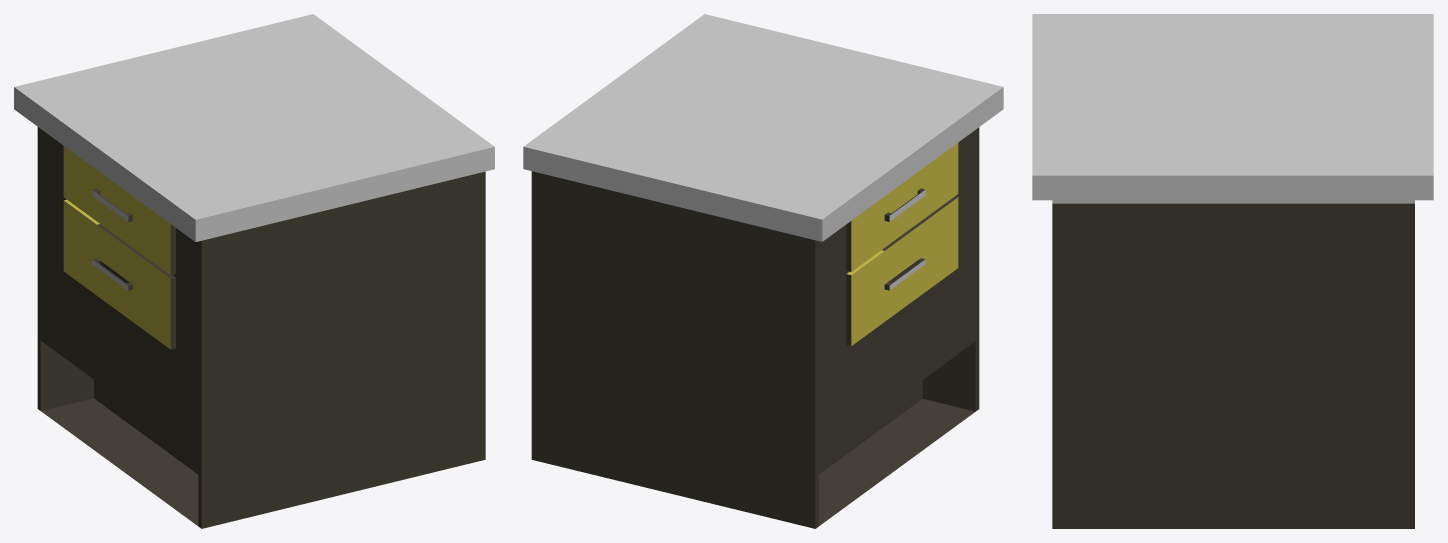
File: kitchen counter.fbx
The picture shows the model from 3 angles, left to right: view 1: azimuth 30°, elevation 25°; view 2: azimuth 150°, elevation 25°; view 3: azimuth 270°, elevation 25°; orthographic projection. The views are drawn at different scales.
Visible parts, largest first — view 1: Ktichen Counter; view 2: Ktichen Counter; view 3: Ktichen Counter.
Part boxes in pixels (left/top/right/bottom): Ktichen Counter: left=14, top=14, right=494, bottom=528; Ktichen Counter: left=523, top=14, right=1003, bottom=528; Ktichen Counter: left=1032, top=14, right=1433, bottom=528.
Size of the model in its own units: 393 by 401 by 412.
